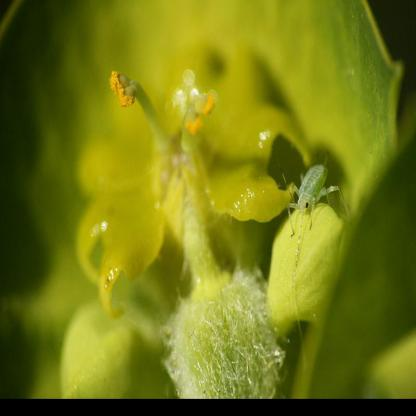aphid: (280, 154, 340, 235)
